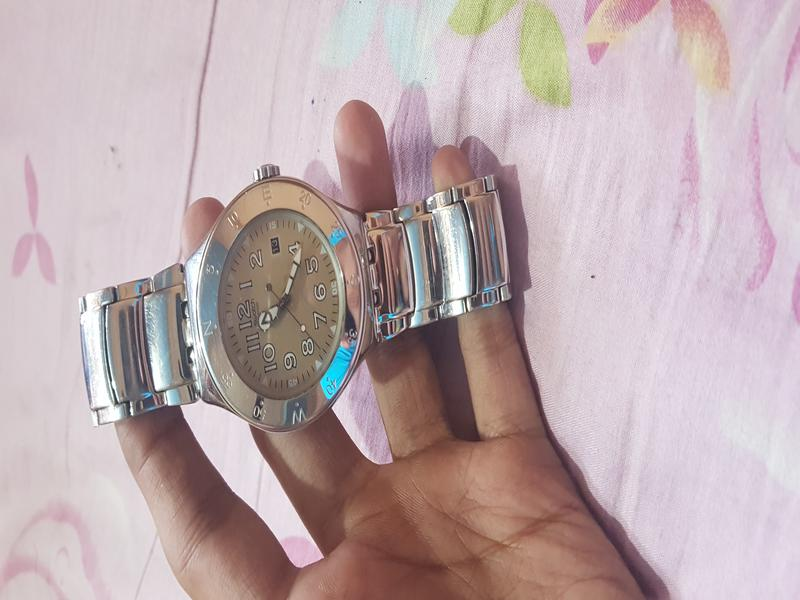watch: (46, 163, 512, 437)
